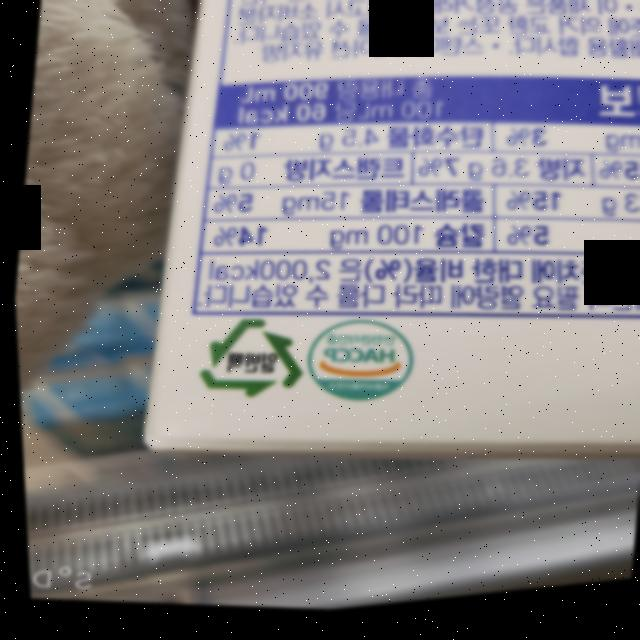NormalPack: (189, 310, 309, 414)
